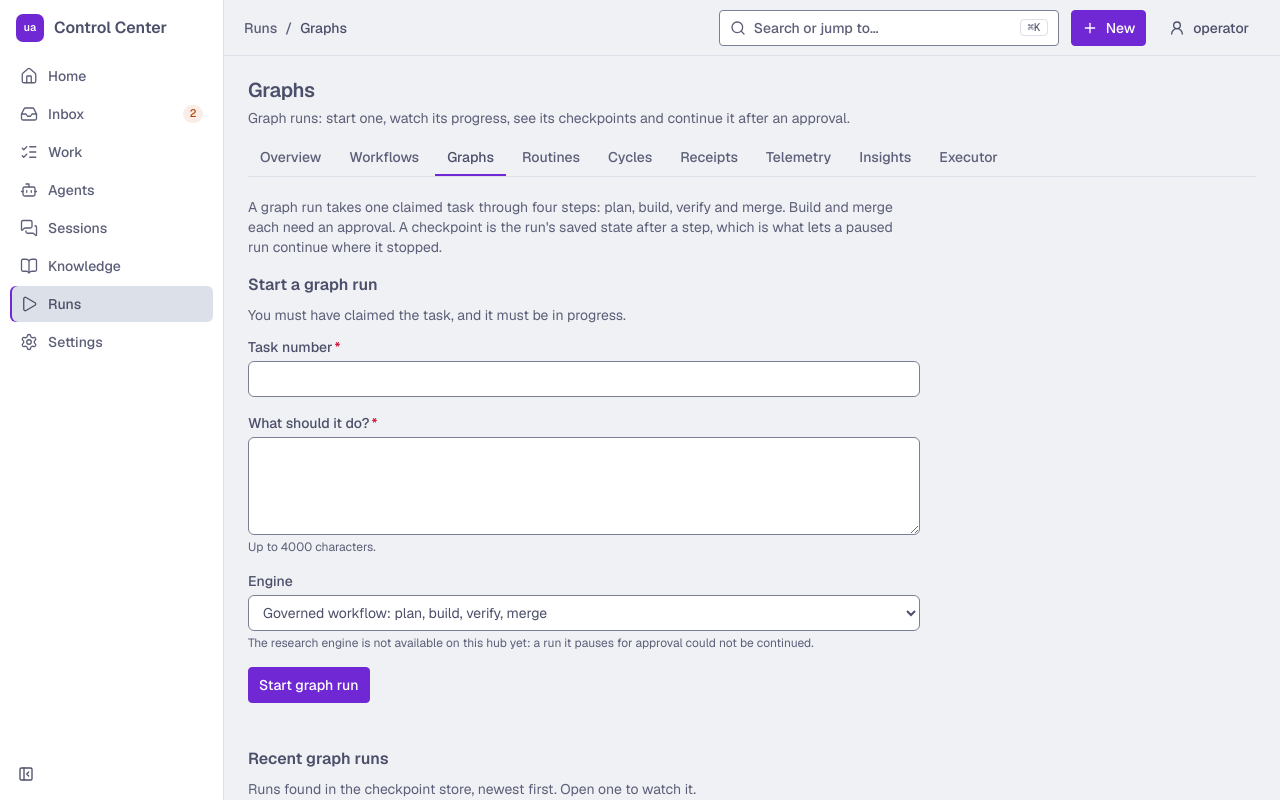
Test: /runs/graphs › an approval pause is shown as waiting with the Inbox link and Continue, not as an error; Continue sends the run id
Type "42" into the field labelled "Task number*" at (584, 379), box [248,361,920,397]
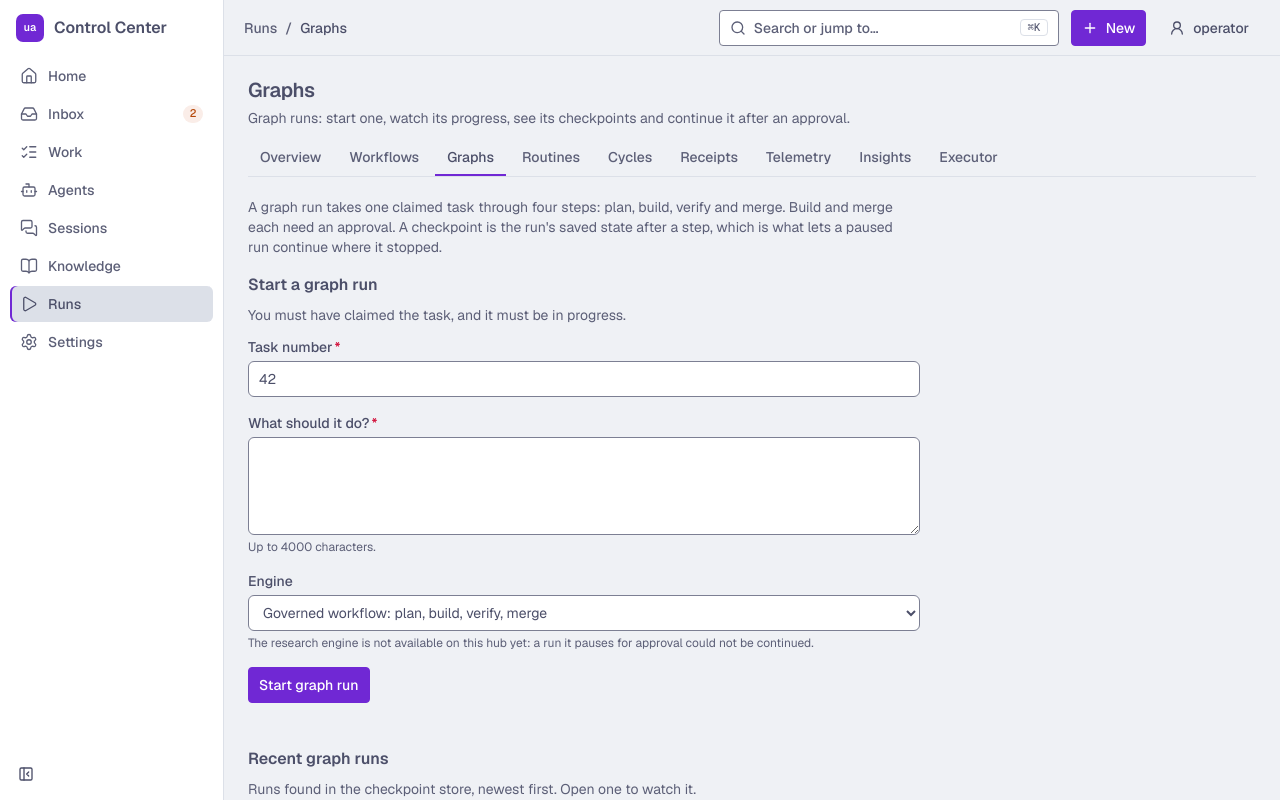
Type "Fix the login form" into the text box labelled "What should it do?*" at (584, 486), box [248,437,920,535]
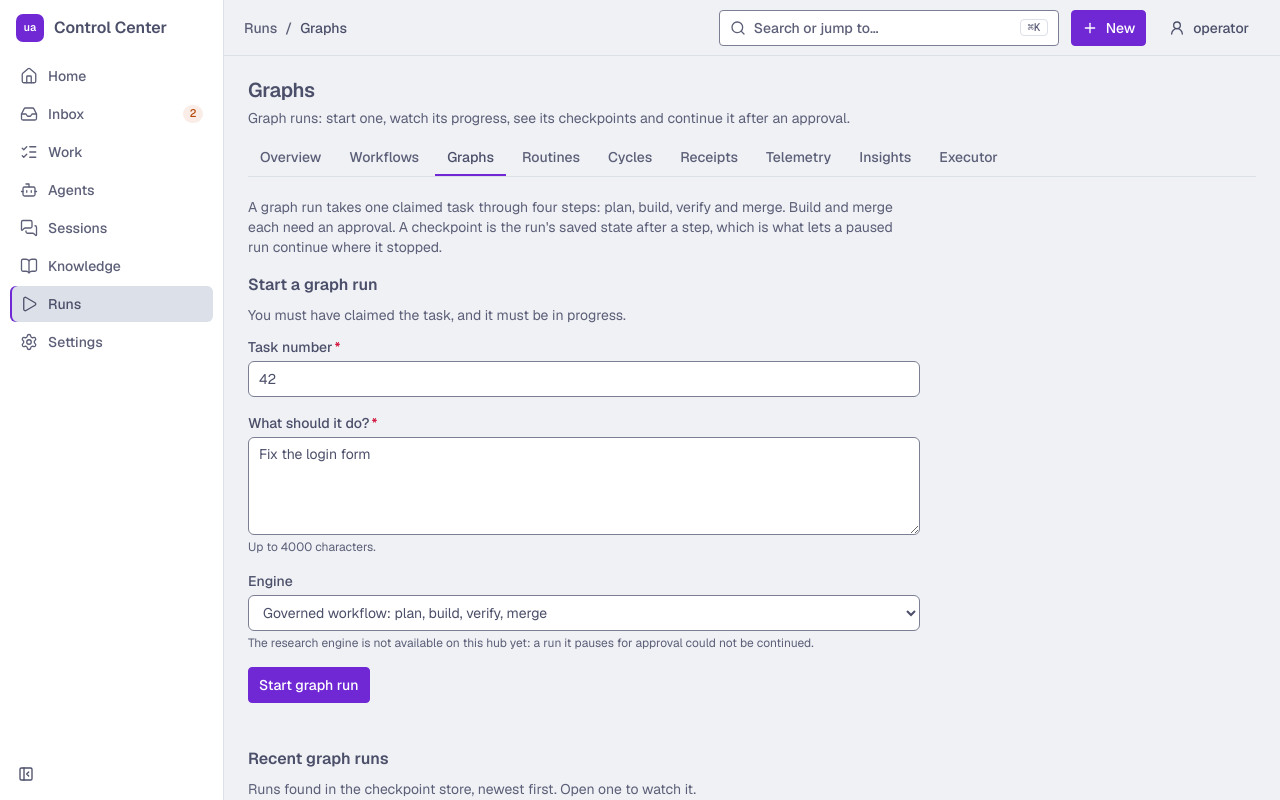
Click the button "Start graph run" at (309, 685), box [248,667,370,703]
(page scrolled)
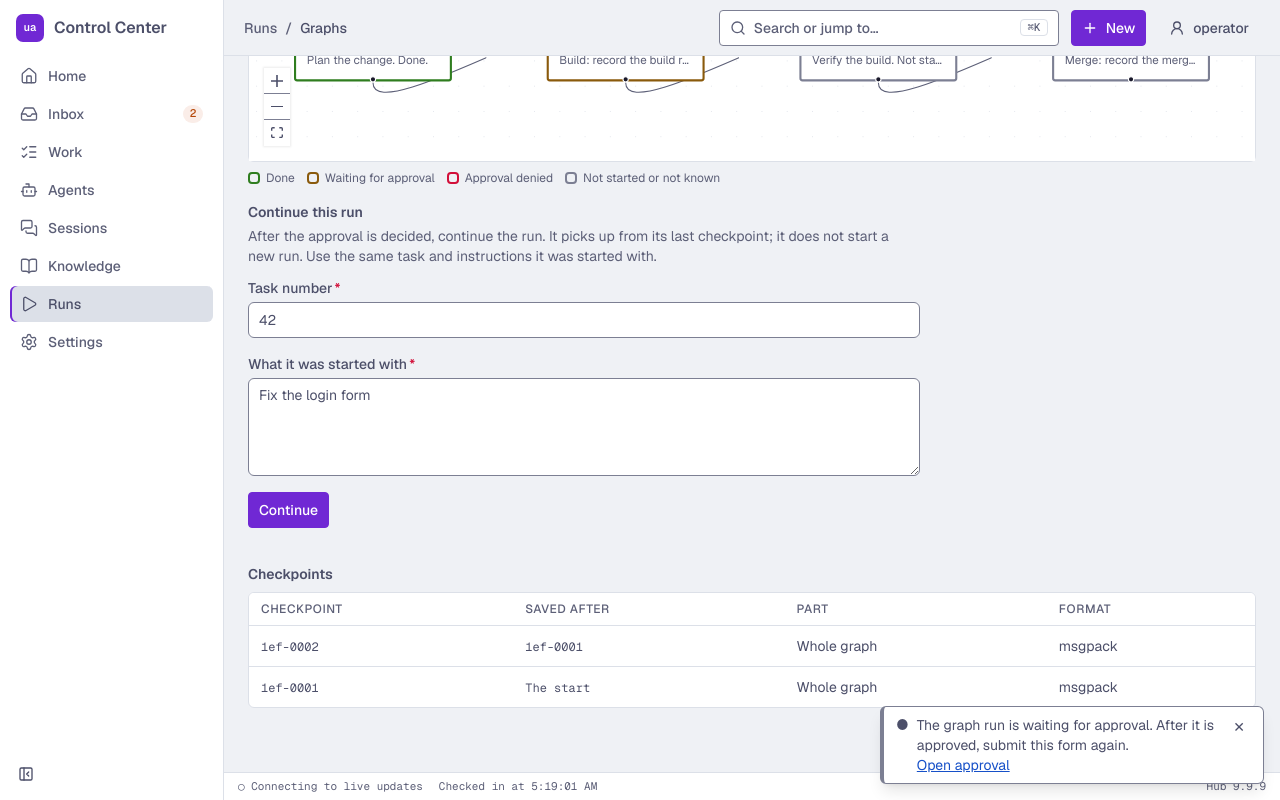
Click the button "Continue" at (289, 510), box [248,492,329,528]
(page scrolled)
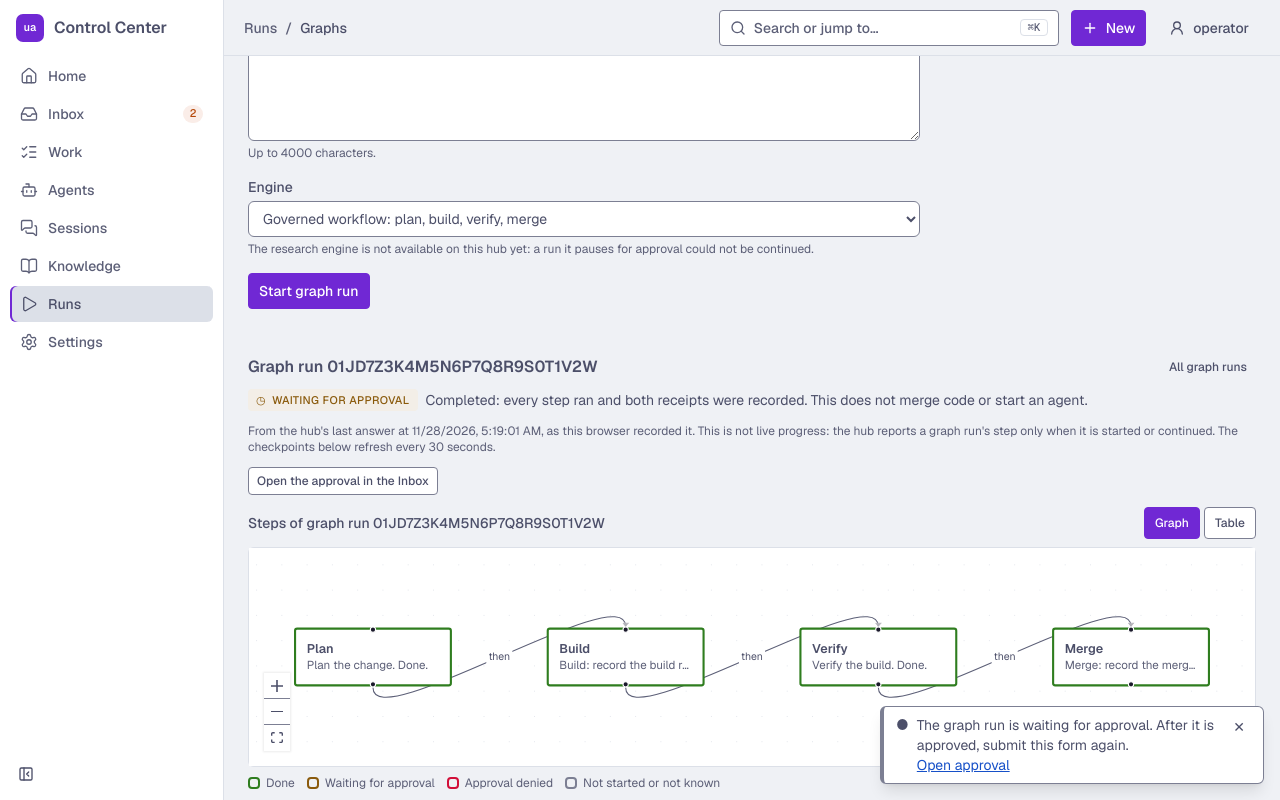
Result: the text "Completed: every step ran" is shown at [426,391,1088,409]
